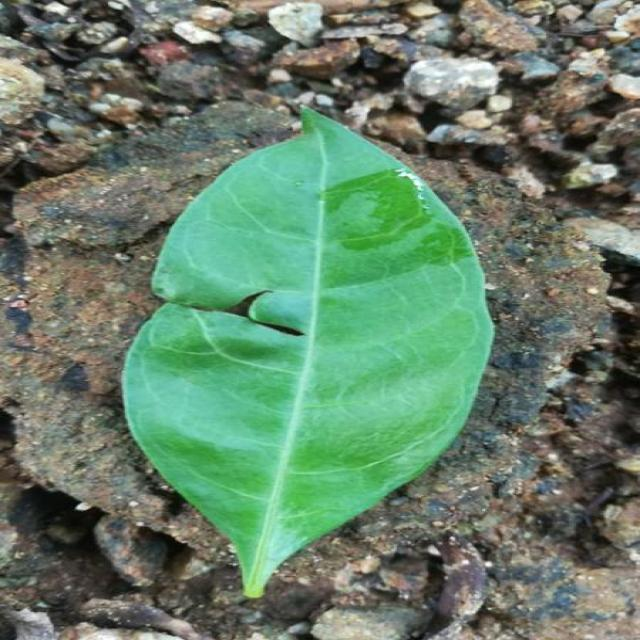henna: (123, 110, 493, 598)
